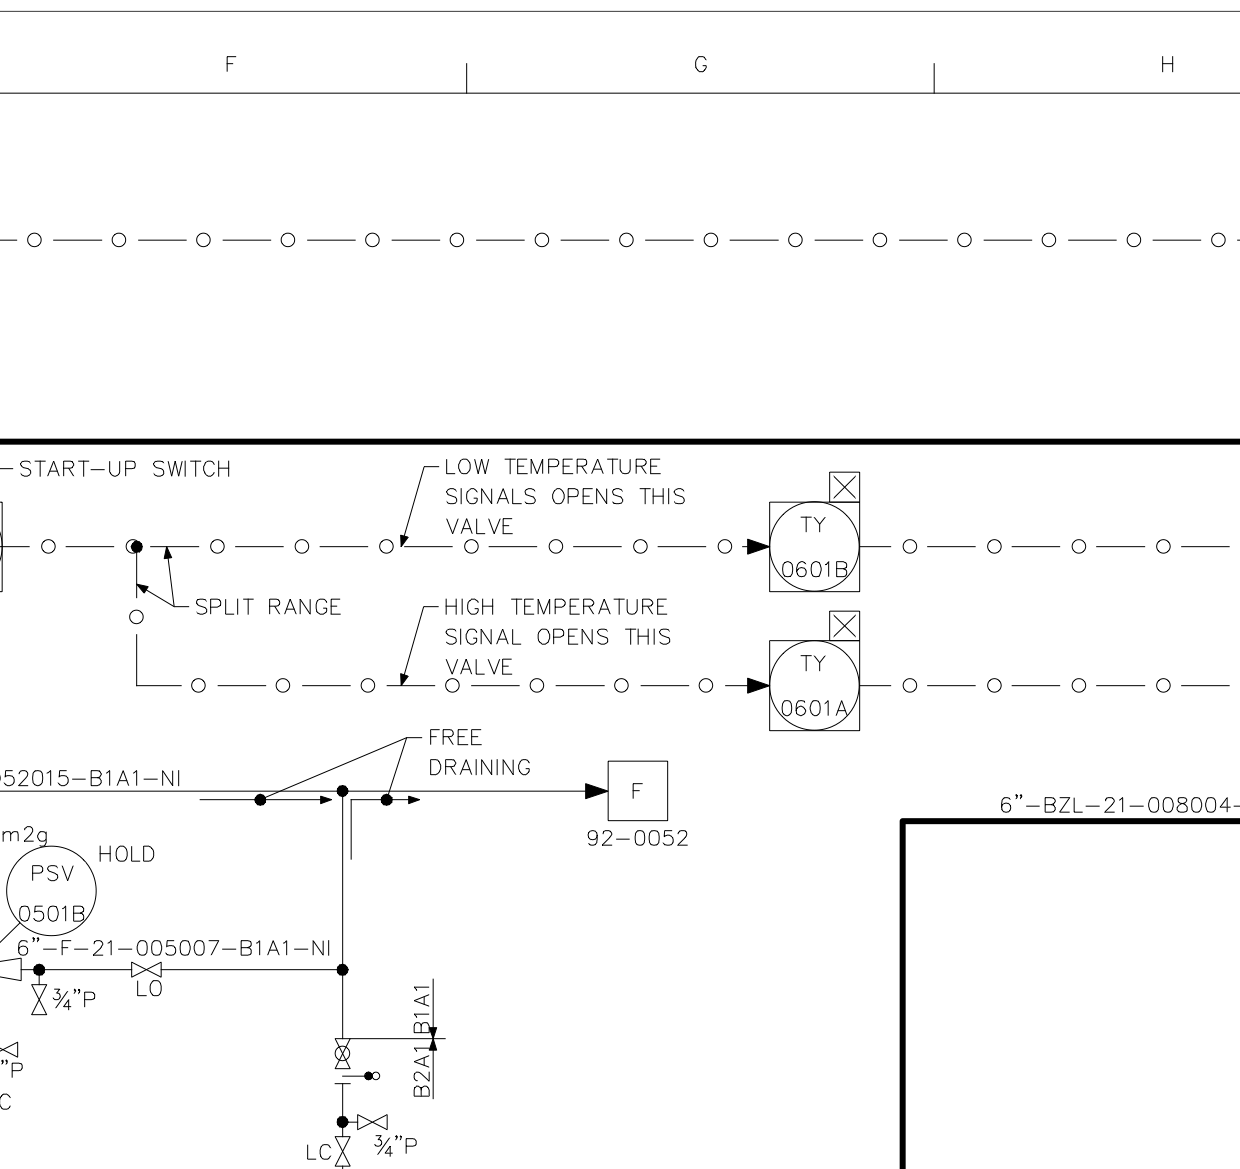Line Number: (16, 933, 335, 961)
Spetacle Blind: (329, 1064, 383, 1091)
